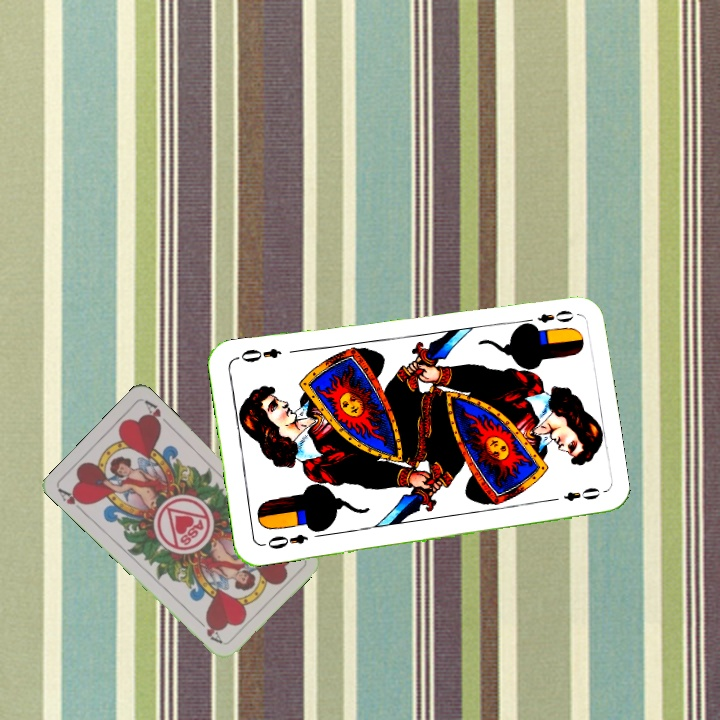EO: (519, 306, 576, 330), (258, 529, 310, 552)
HA: (54, 484, 90, 517)
